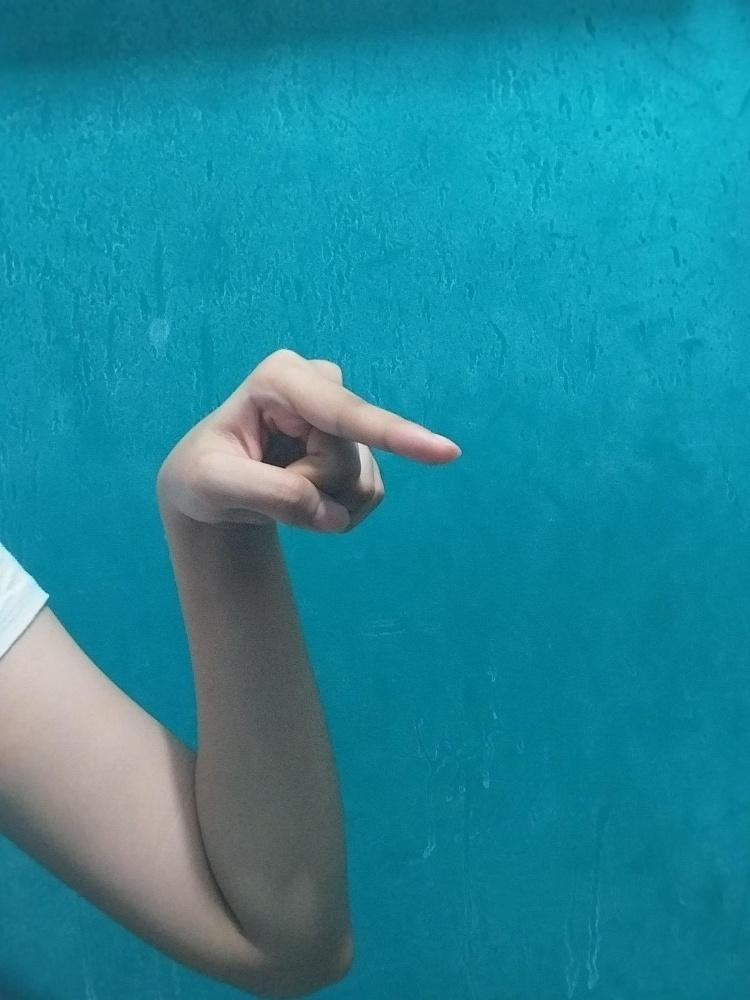z: (156, 347, 459, 533)
